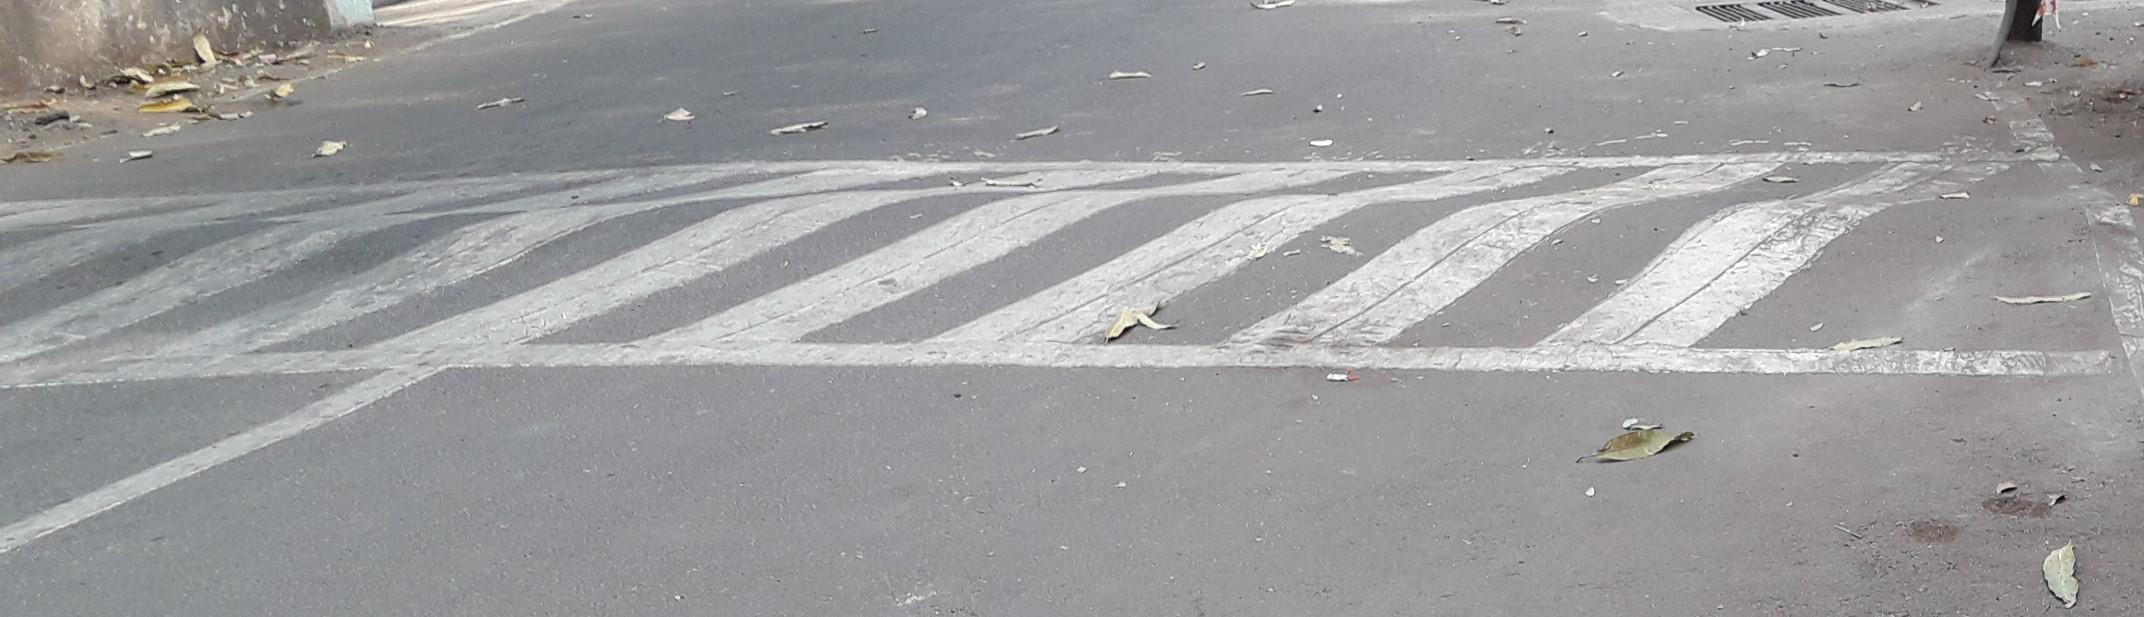speed-bump: (10, 148, 2138, 374)
